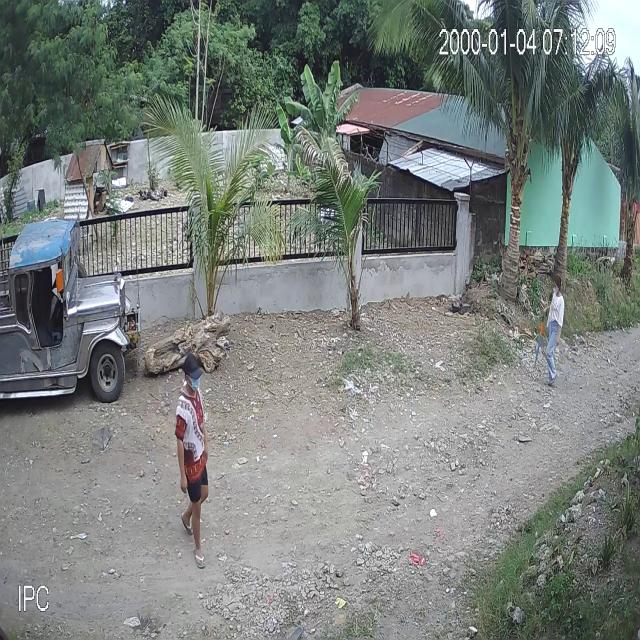walking: (173, 341, 217, 572), (531, 270, 567, 390)
